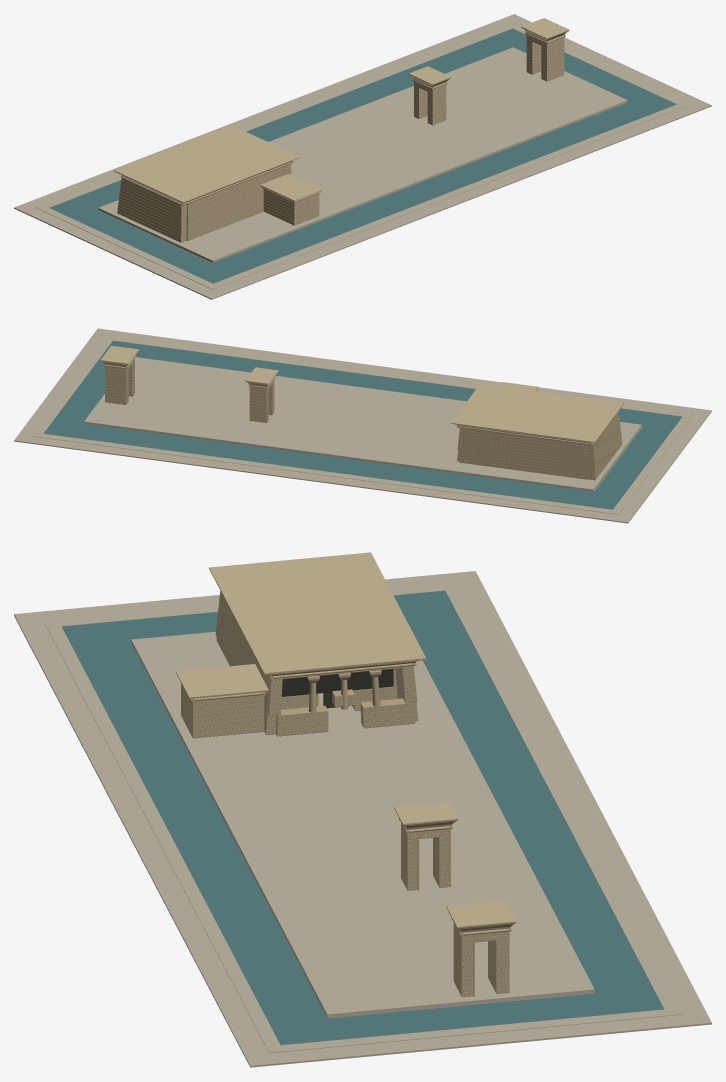
File: templo-de-debod-near.glb
3 views of the same model, one above another, from view 1: azimuth 30°, elevation 25°; view 2: azimuth 150°, elevation 25°; view 3: azimuth 270°, elevation 25° (orthographic). The views are drawn at different scales.
Parts seen in each view (by area): view 1: templo-de-debod-0-platform, templo-de-debod-0-water, templo-de-debod-0-stone, templo-de-debod-0-cornice; view 2: templo-de-debod-0-platform, templo-de-debod-0-water, templo-de-debod-0-stone, templo-de-debod-0-cornice; view 3: templo-de-debod-0-platform, templo-de-debod-0-water, templo-de-debod-0-cornice, templo-de-debod-0-stone, templo-de-debod-0-recess.
Boxes of the visible parts, box(x1,y1,x2,y2) form: templo-de-debod-0-platform: box(14, 14, 711, 299); templo-de-debod-0-water: box(49, 28, 676, 283); templo-de-debod-0-stone: box(114, 27, 569, 242); templo-de-debod-0-cornice: box(114, 18, 569, 202); templo-de-debod-0-platform: box(14, 328, 711, 523); templo-de-debod-0-water: box(44, 340, 681, 509); templo-de-debod-0-stone: box(100, 350, 624, 480); templo-de-debod-0-cornice: box(101, 345, 623, 441); templo-de-debod-0-platform: box(14, 571, 711, 1067); templo-de-debod-0-water: box(61, 590, 664, 1045); templo-de-debod-0-cornice: box(176, 552, 516, 926); templo-de-debod-0-stone: box(176, 568, 516, 997); templo-de-debod-0-recess: box(281, 669, 393, 696).
Bounding box in the file's own units: 94.13 × 7 × 56.1.
